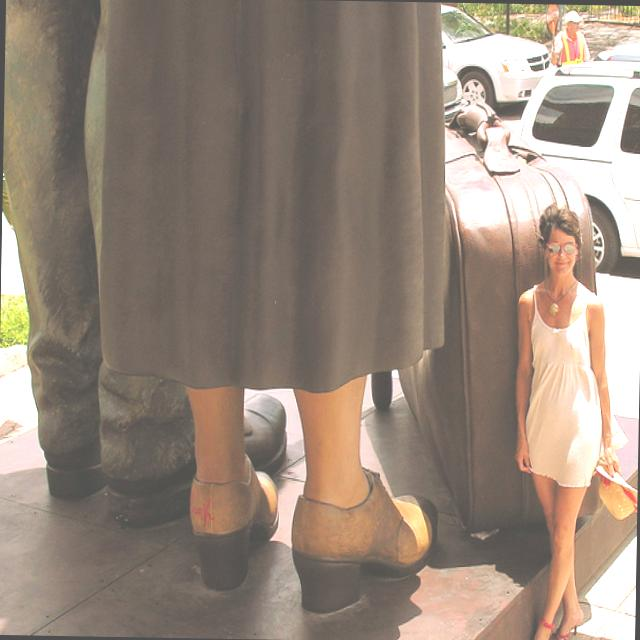Vehicle: (512, 59, 640, 274), (438, 4, 552, 111), (591, 13, 640, 64), (440, 64, 470, 124)
